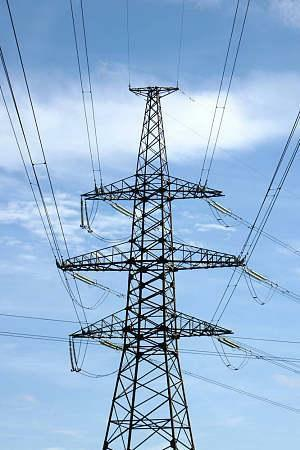power_tower: (59, 75, 248, 450)
